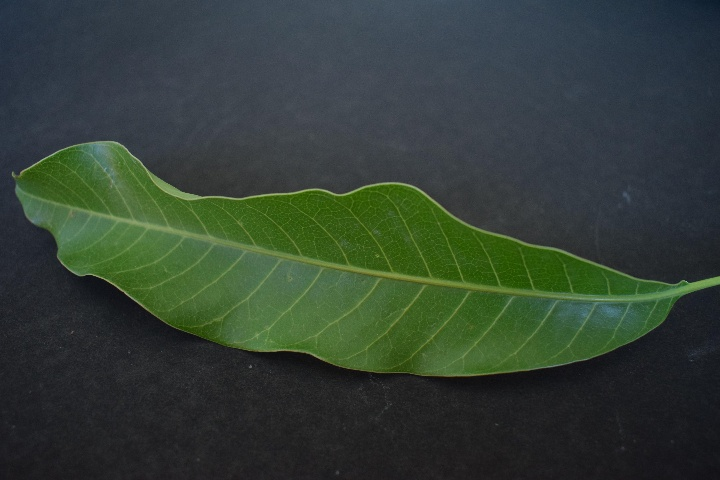healthy: (18, 145, 681, 383)
